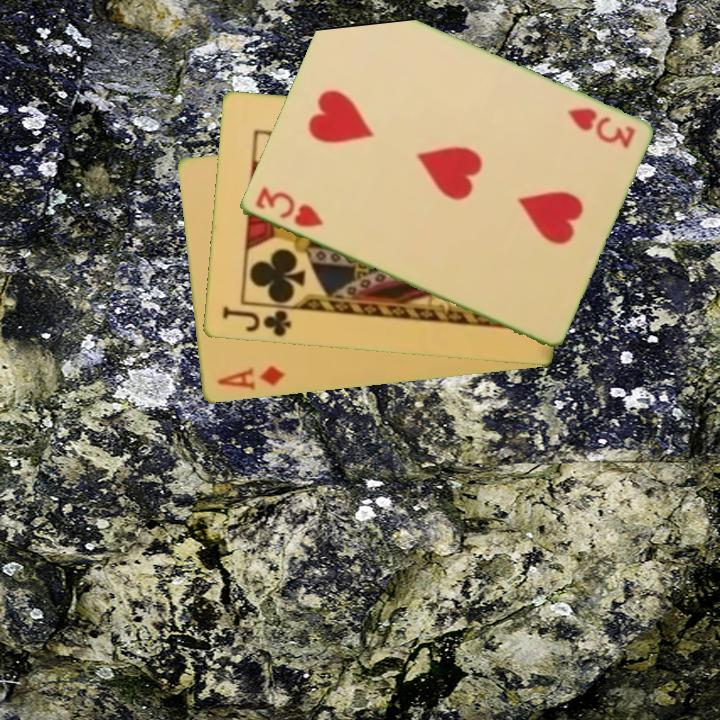3h: (251, 183, 326, 231), (563, 104, 638, 151)
Ad: (213, 362, 288, 393)
Jc: (218, 303, 298, 340)
